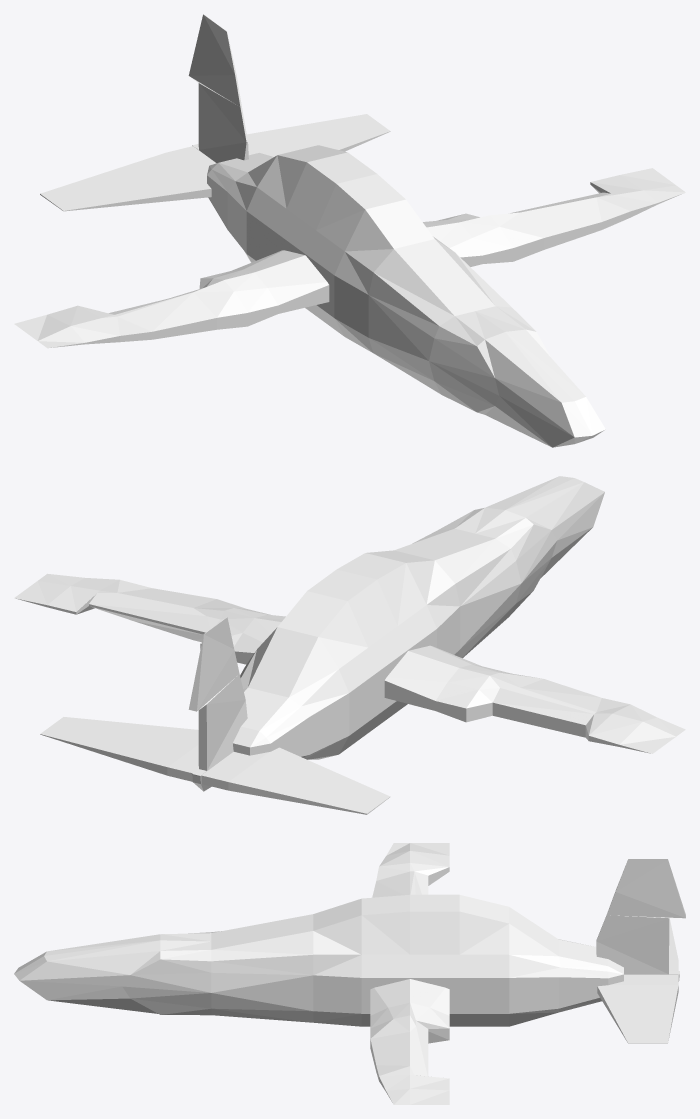
Rendered from player_Actual_machine.obj.
The picture shows the model from 3 angles, top to bottom: view 1: azimuth 30°, elevation 25°; view 2: azimuth 150°, elevation 25°; view 3: azimuth 270°, elevation 25°; orthographic projection. The views are drawn at different scales.
Parts seen in each view (by area): view 1: player_Actual_machine; view 2: player_Actual_machine; view 3: player_Actual_machine.
Part boxes in pixels (x1,y1,x2,y2): player_Actual_machine: [14, 14, 685, 447]; player_Actual_machine: [14, 476, 685, 814]; player_Actual_machine: [14, 843, 685, 1104].
Bounding box in the file's own units: 1.56 × 0.4429 × 1.69.
1 material, 1 textured.
